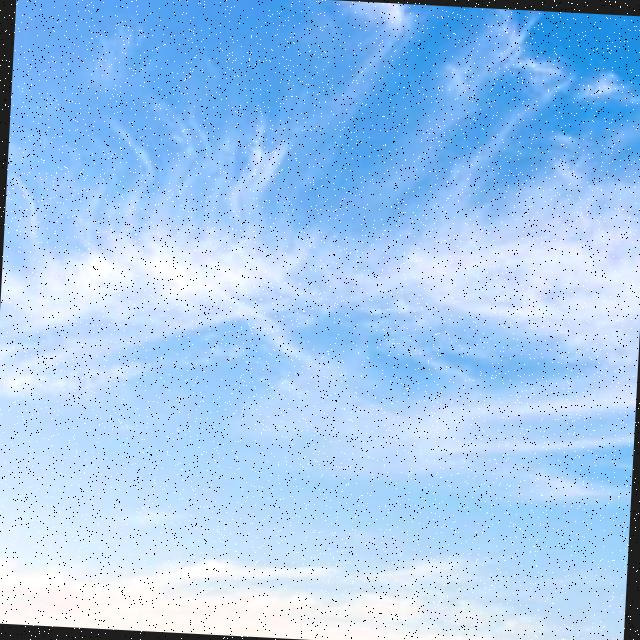Ci: (1, 6, 640, 512)
